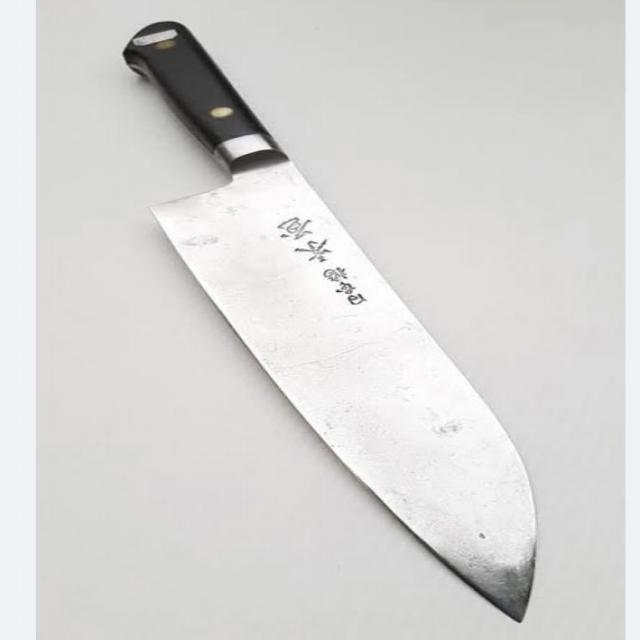Knife: (119, 17, 545, 624)
